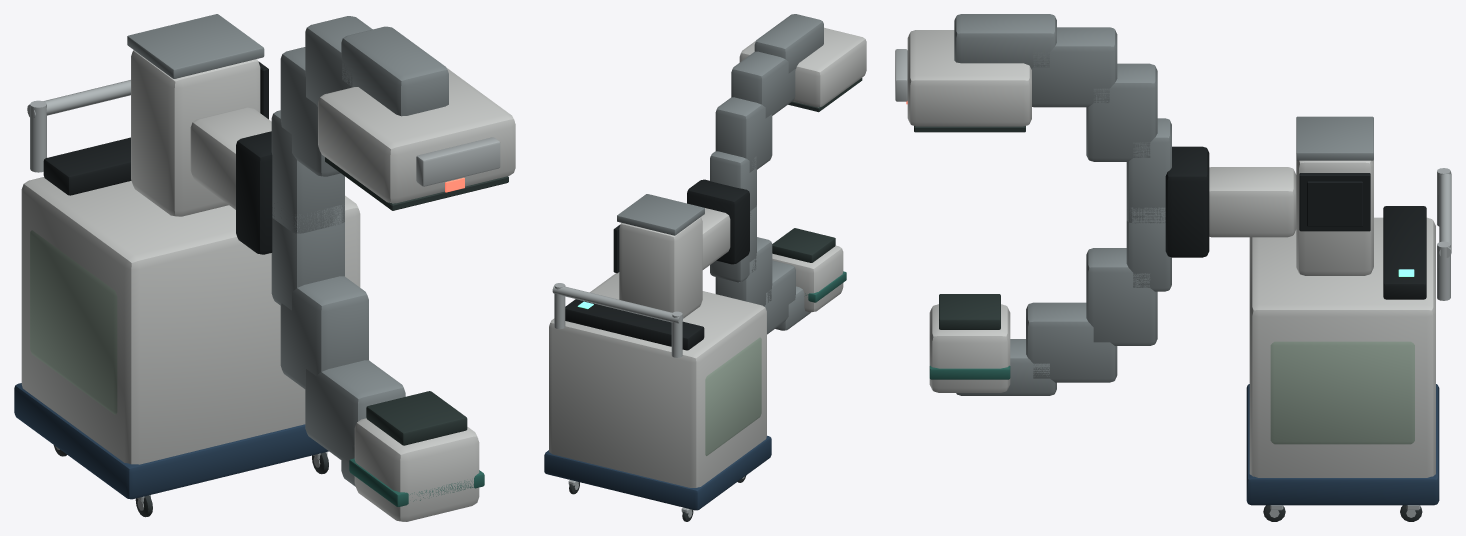
Rendered from c-arm.glb.
The picture shows the model from 3 angles, left to right: view 1: azimuth 30°, elevation 25°; view 2: azimuth 150°, elevation 25°; view 3: azimuth 270°, elevation 25°; orthographic projection. The views are drawn at different scales.
Visible parts, largest first — view 1: c-arm; view 2: c-arm; view 3: c-arm.
Part boxes in pixels (x1,y1,x2,y2): c-arm: [14, 14, 515, 521]; c-arm: [544, 14, 866, 521]; c-arm: [895, 14, 1451, 521].
Size of the model in its own units: 0.74 by 1.65 by 1.79.
